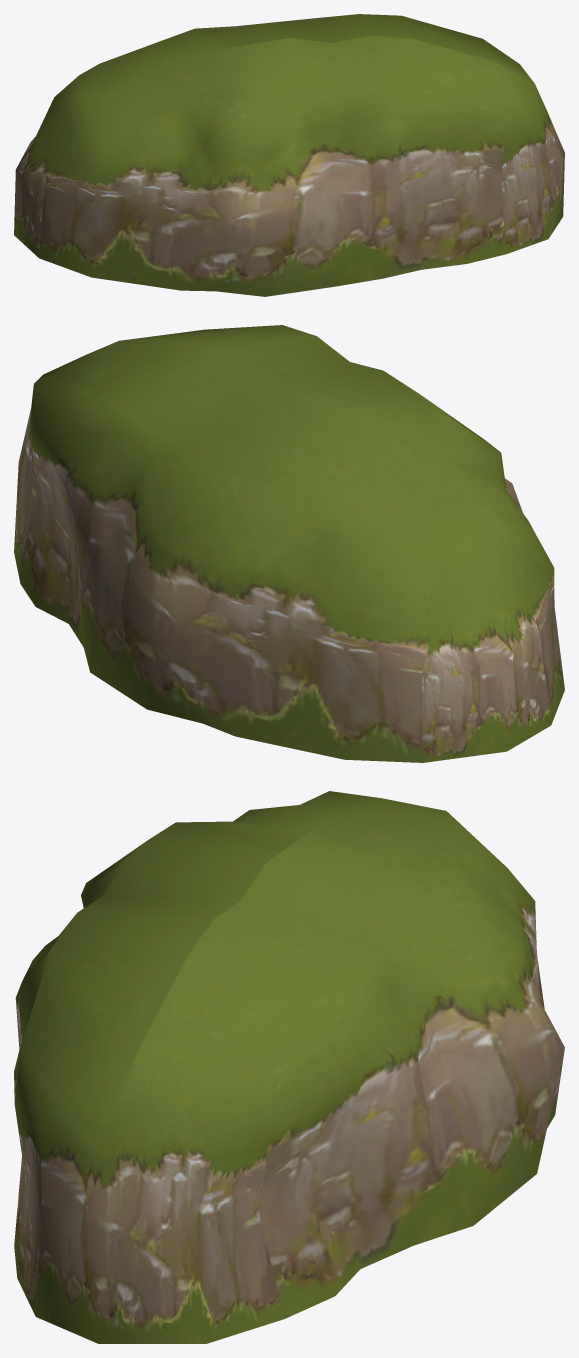
The model's file is gaoyuan_bianyuan_04 (9).fbx.
The picture shows the model from 3 angles, top to bottom: view 1: azimuth 30°, elevation 25°; view 2: azimuth 150°, elevation 25°; view 3: azimuth 270°, elevation 25°; orthographic projection. The views are drawn at different scales.
Visible parts, largest first — view 1: gaoyuan_bianyuan_04 (9); view 2: gaoyuan_bianyuan_04 (9); view 3: gaoyuan_bianyuan_04 (9).
Part boxes in pixels (x1,y1,x2,y2): gaoyuan_bianyuan_04 (9): (14, 14, 564, 296); gaoyuan_bianyuan_04 (9): (14, 325, 564, 762); gaoyuan_bianyuan_04 (9): (14, 791, 564, 1343).
Size of the model in its own units: 3.07 by 1.26 by 2.04.
